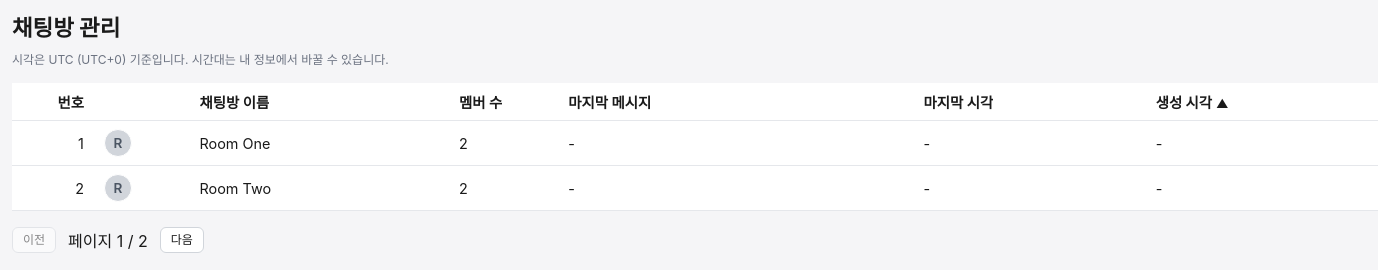
Test case: RoomsPage › numbers rows from 1 and keeps counting across pages
Expected: the text "Room One" is shown, [190,120,449,166]
Click the button "다음".
click(182, 240)  # box [160,227,204,253]
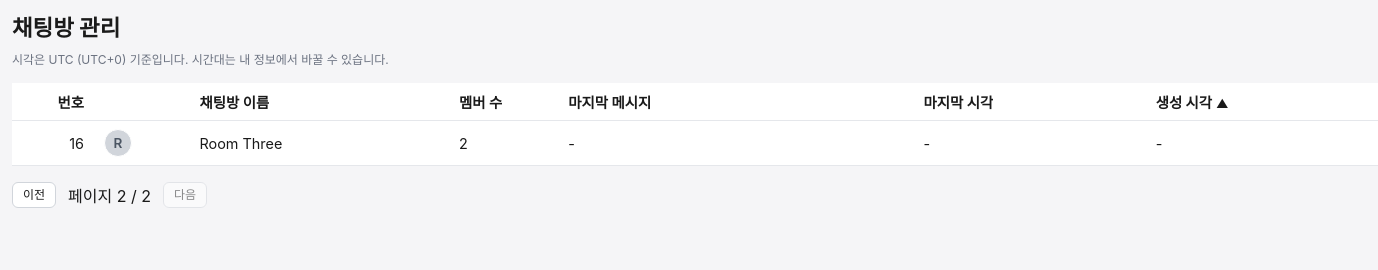
Result: the text "Room Three" is shown at [190,120,449,166]
